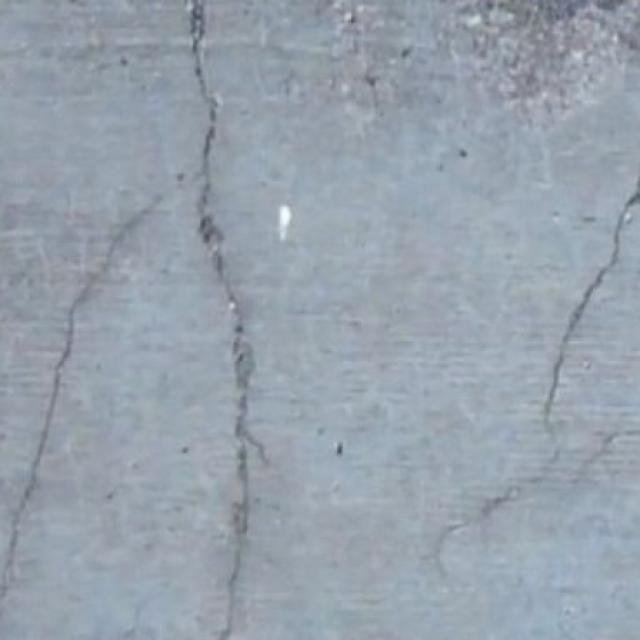Vertical Crack: (429, 185, 640, 587), (4, 192, 165, 601), (184, 0, 270, 640), (576, 427, 640, 490)
